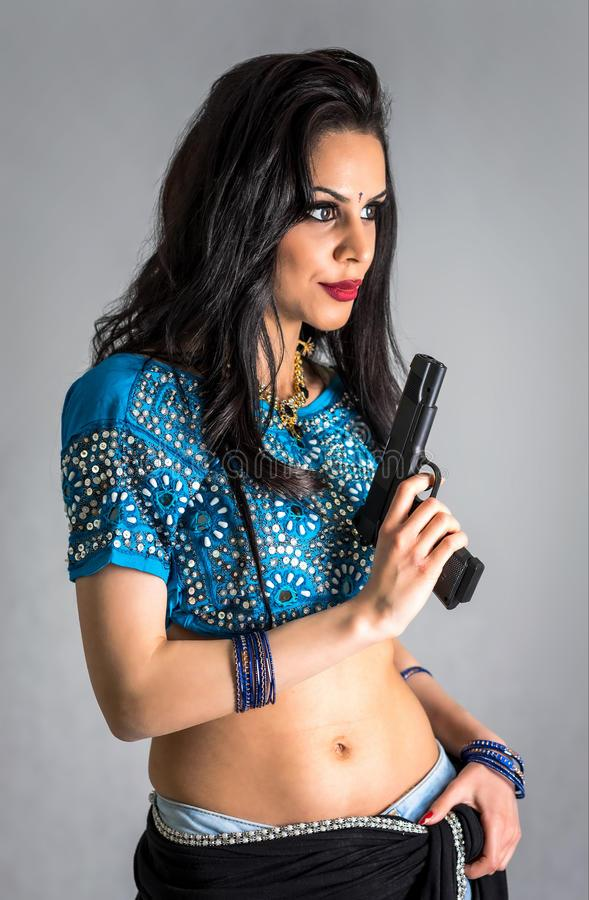criminal: (55, 42, 532, 900)
weapon: (351, 342, 492, 617)
